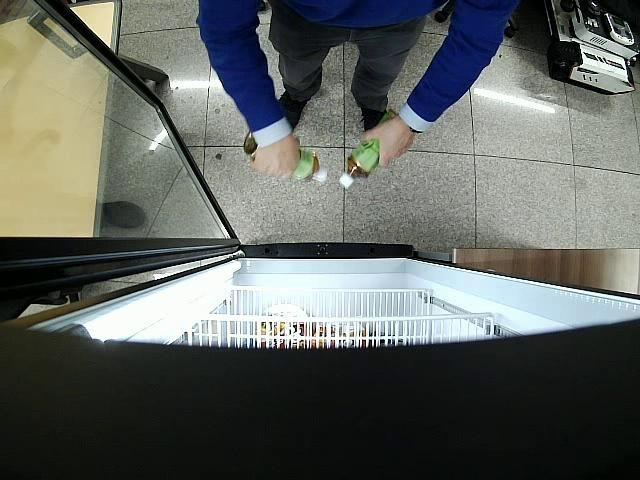19_17cha: (339, 109, 398, 188), (244, 129, 328, 182)
